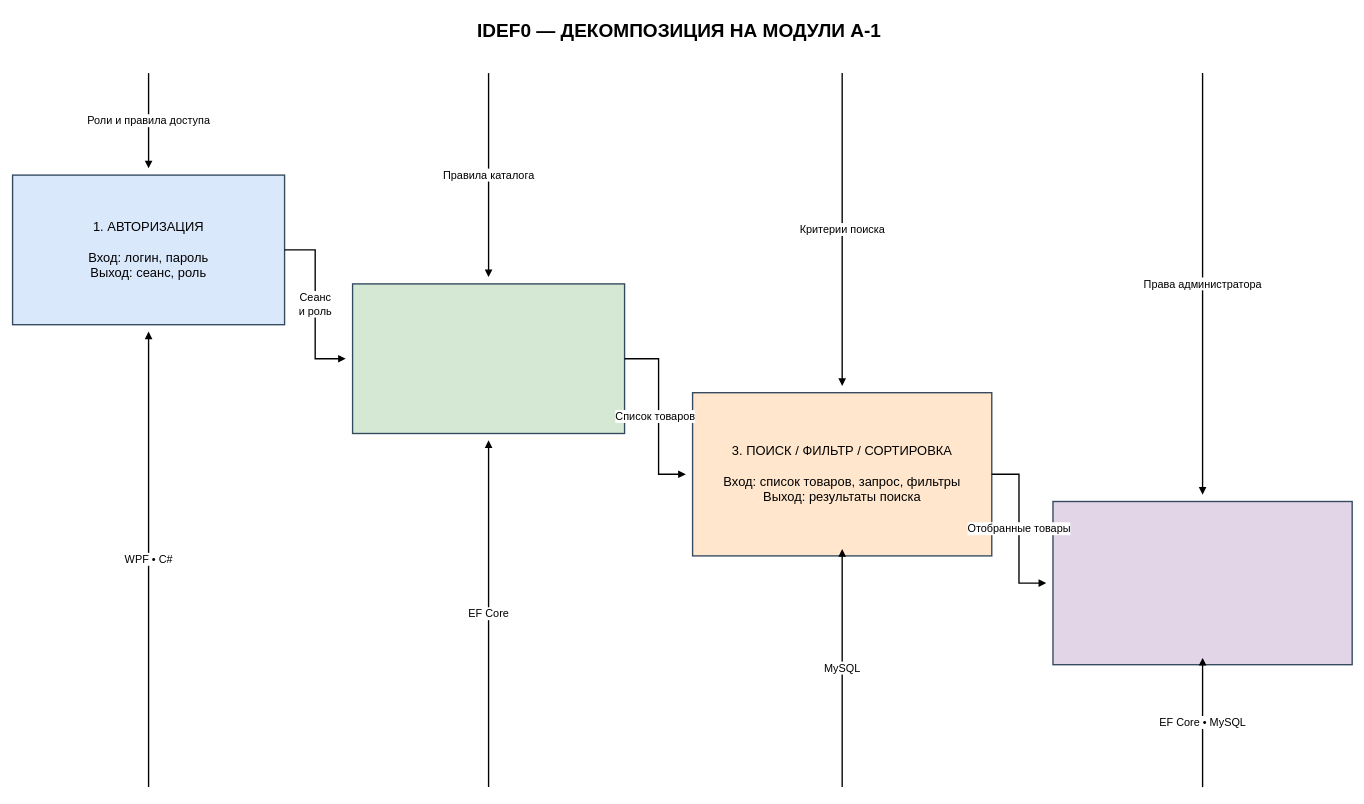
This 1364x804 diagram has some shape labels left out. Here are the shapes that lost their labels. From the top down, the centre of each, then its label:
At (x=488, y=358): "2. КАТАЛОГ Вход: сеанс, роль Выход: список товаров".
At (x=1202, y=582): "4. CRUD ТОВАРОВ Вход: выбранный товар, команда CRUD Выход: результат операции".
